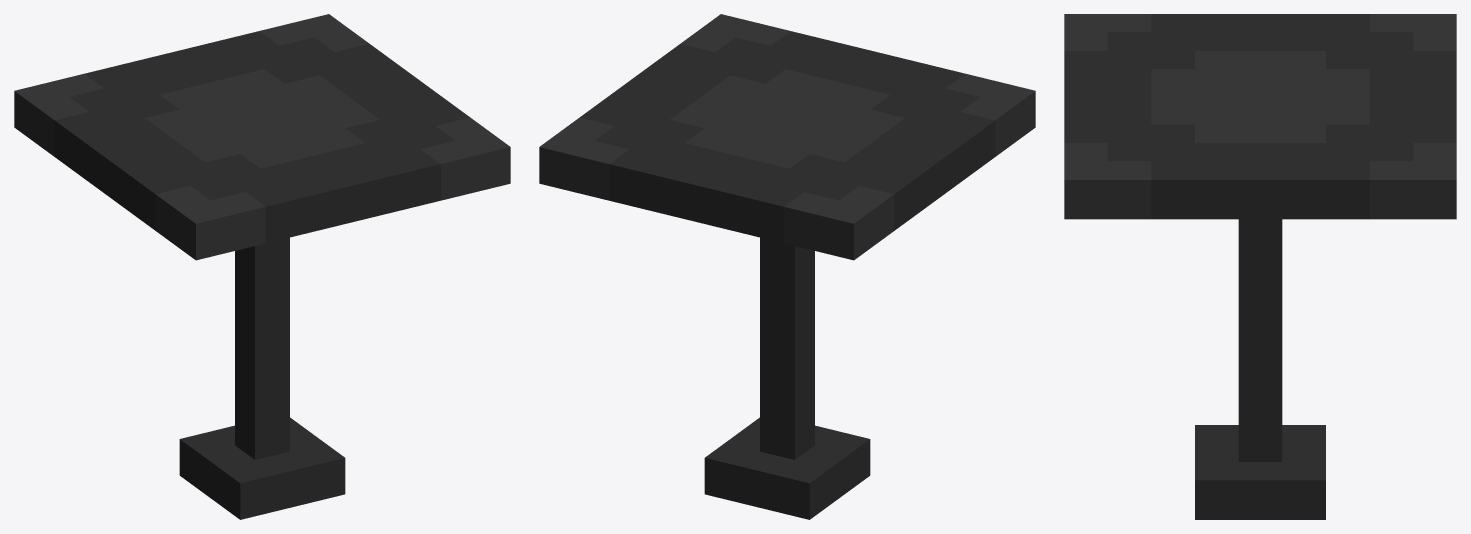
Rendered from Decor-78.obj.
The picture shows the model from 3 angles, left to right: view 1: azimuth 30°, elevation 25°; view 2: azimuth 150°, elevation 25°; view 3: azimuth 270°, elevation 25°; orthographic projection. The views are drawn at different scales.
Bounding box in the file's own units: 0.9 × 1 × 0.9.
1 material, 1 textured.
